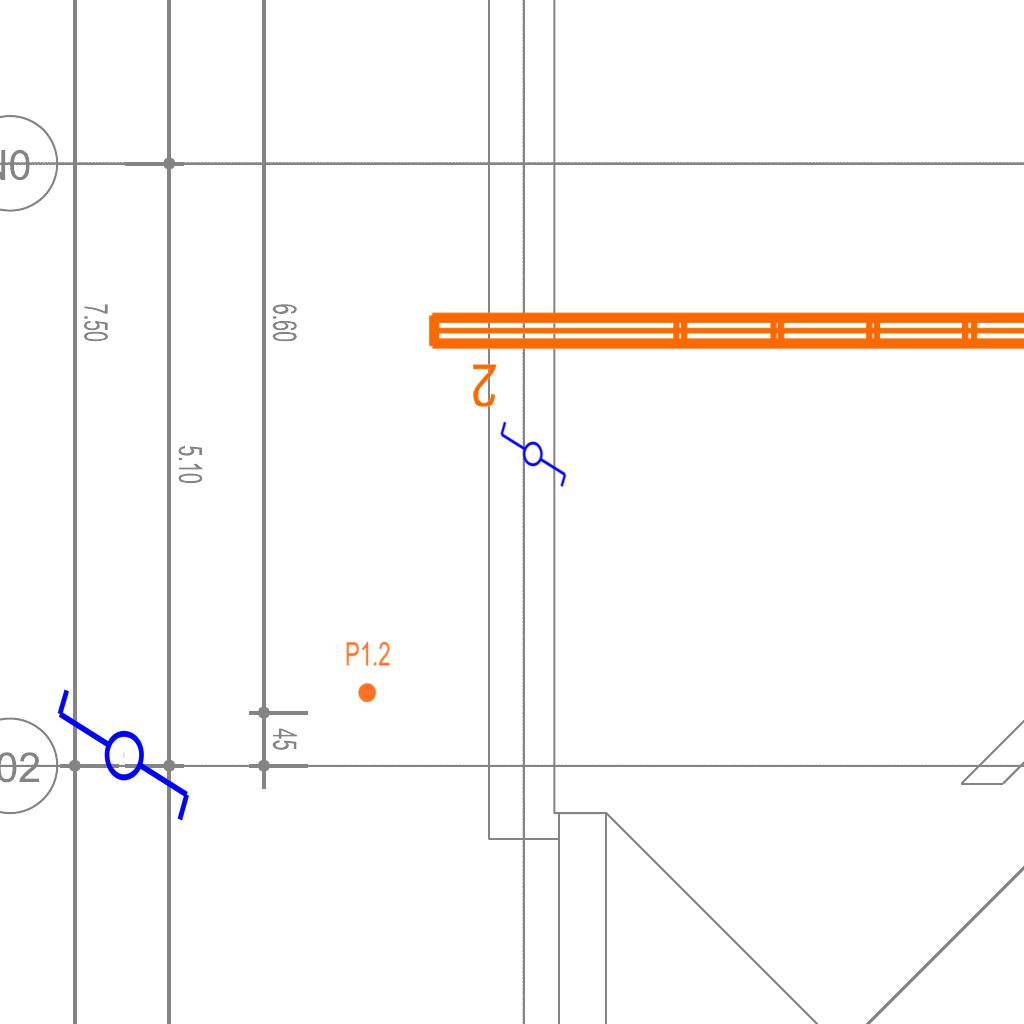Ambulanz_Pendelleuchte_LED: (420, 300, 1024, 412)
Downlight_LED_Einbauleuchten_Flur: (345, 640, 391, 704)
Wechselschalter: (50, 685, 194, 842), (498, 411, 570, 489)
